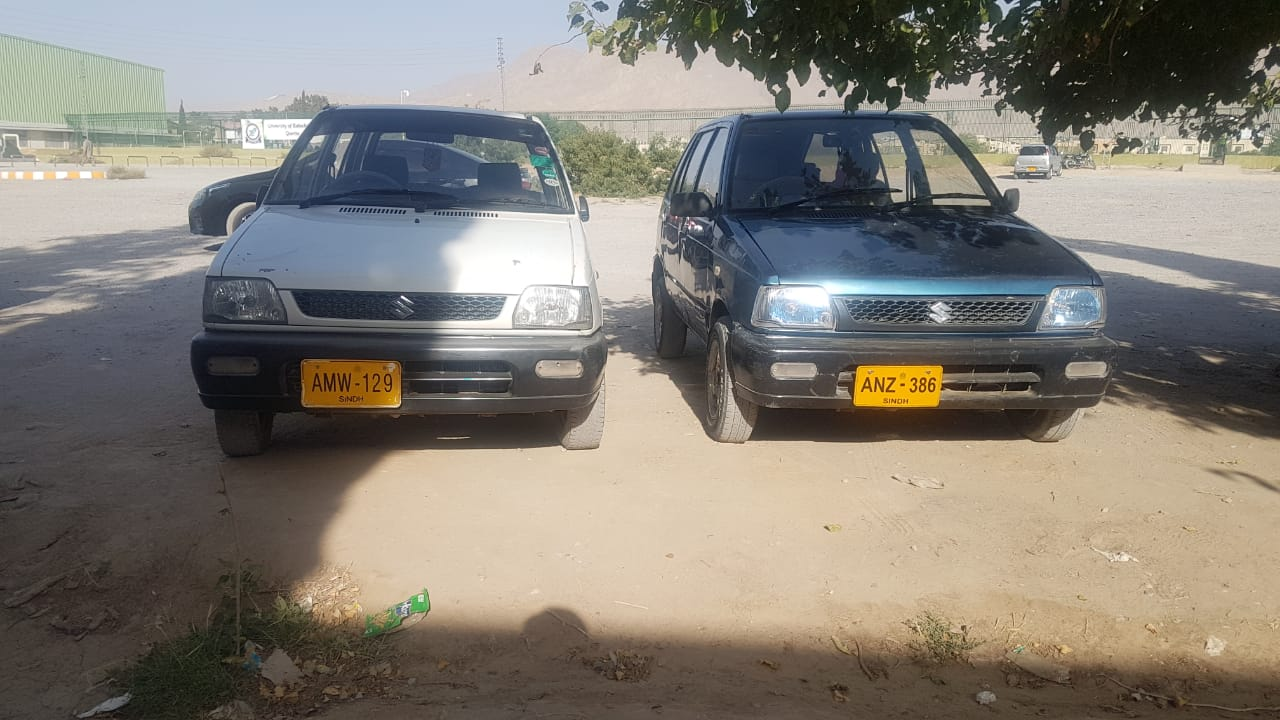license plate: (300, 358, 402, 410), (854, 364, 941, 409)
